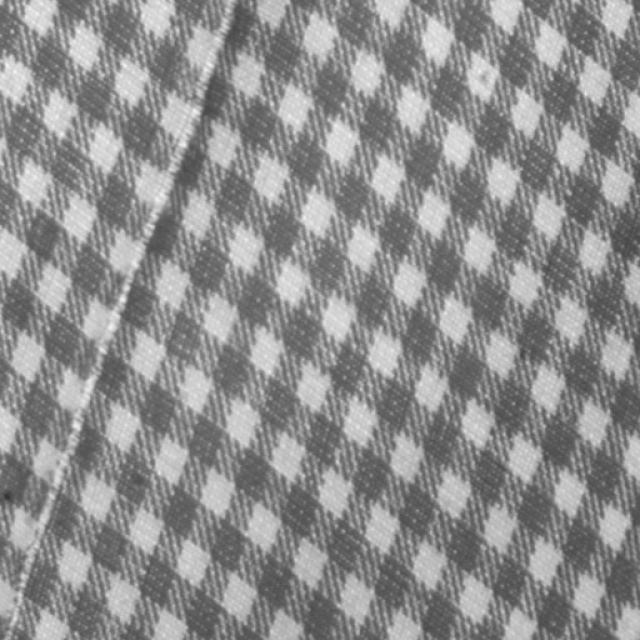Thread-Defect: (4, 0, 240, 639)
